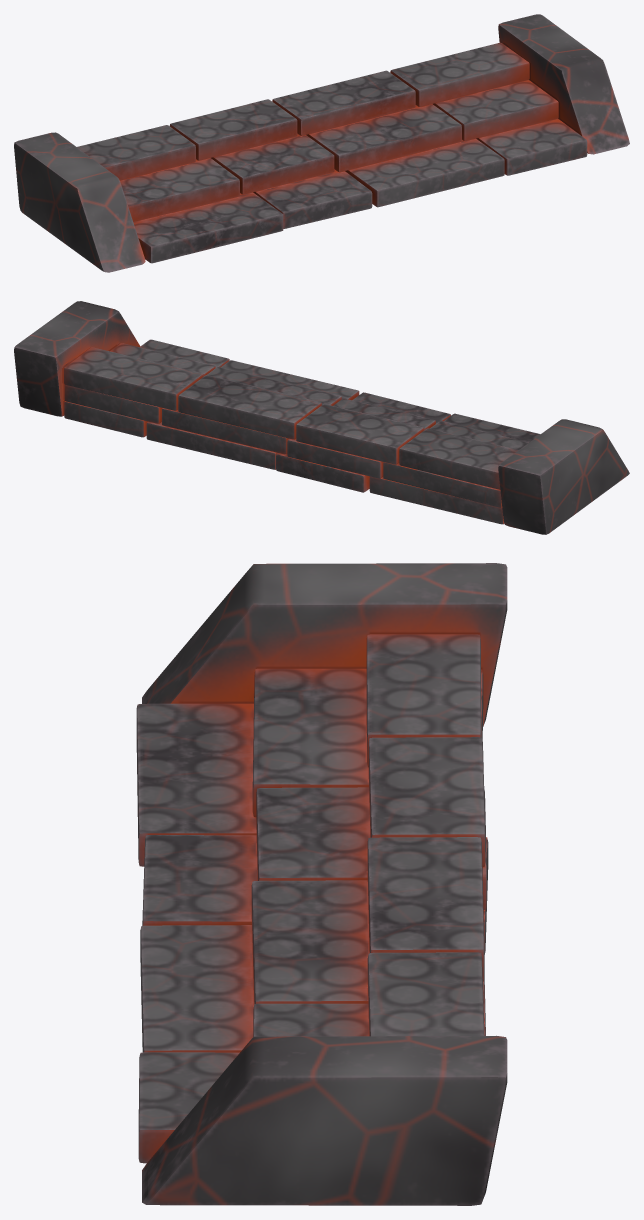
Rendered from Volcan_Escalier.fbx.
3 views of the same model, one above another, from view 1: azimuth 30°, elevation 25°; view 2: azimuth 150°, elevation 25°; view 3: azimuth 270°, elevation 25° (orthographic). The views are drawn at different scales.
Parts seen in each view (by area): view 1: Volcan_Escalier; view 2: Volcan_Escalier; view 3: Volcan_Escalier.
Part boxes in pixels (x1,y1,x2,y2): Volcan_Escalier: [14, 14, 629, 272]; Volcan_Escalier: [14, 301, 629, 534]; Volcan_Escalier: [136, 563, 507, 1205].
Size of the model in its own units: 1920 by 230 by 584.
Materials: 1 (1 with a texture image).
